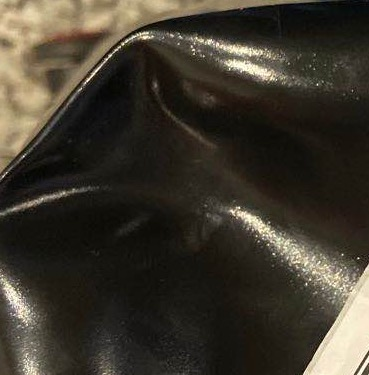rupture: (1, 26, 369, 343)
